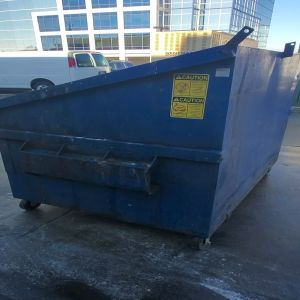Dumpster: (1, 45, 300, 250)
